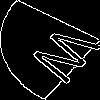W: (25, 24, 100, 91)
